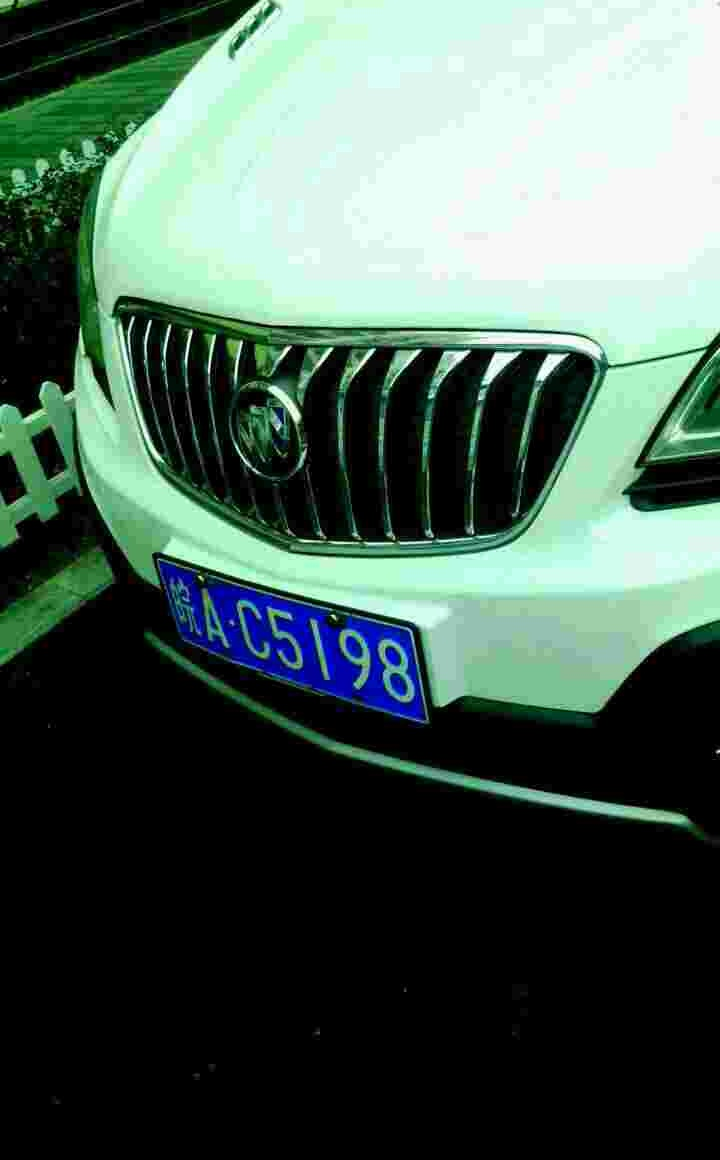car: (155, 556, 436, 718)
